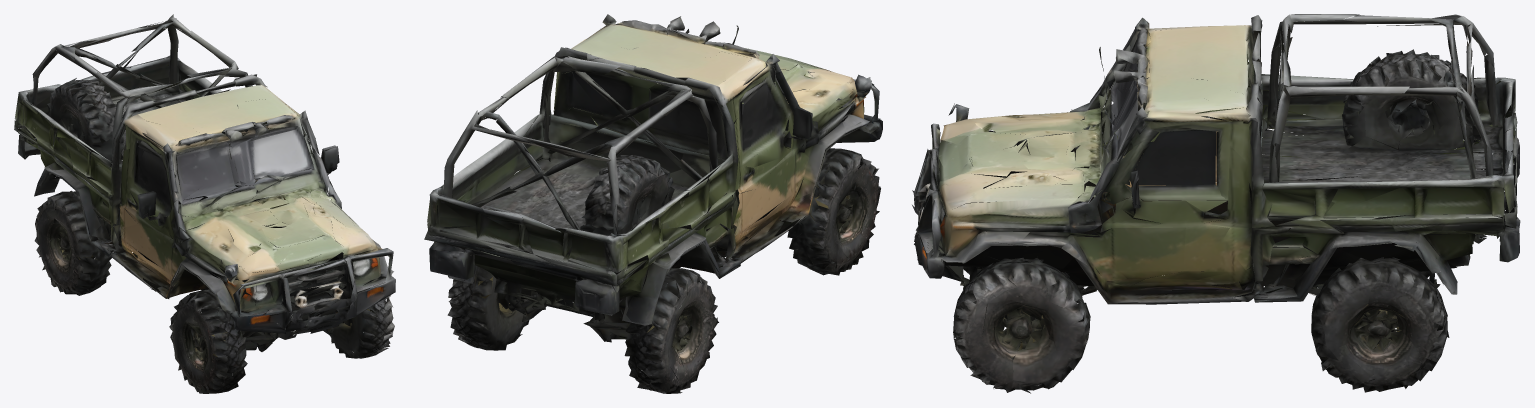
File: jeep_LOD1.fbx
3 views of the same model, side by side, from view 1: azimuth 30°, elevation 25°; view 2: azimuth 150°, elevation 25°; view 3: azimuth 270°, elevation 25° (orthographic). The views are drawn at different scales.
Parts seen in each view (by area): view 1: jeep.001; view 2: jeep.001; view 3: jeep.001.
Part boxes in pixels (<box>): jeep.001: <box>14,14,395,393</box>; jeep.001: <box>424,14,882,393</box>; jeep.001: <box>912,14,1520,393</box>.
Bounding box in the file's own units: 1.96 × 2.08 × 3.89.
1 material, 1 textured.
